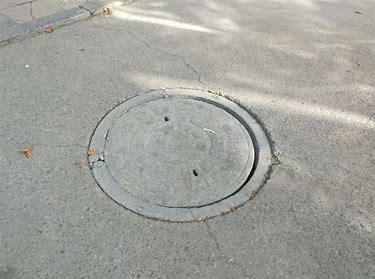wellcover: (92, 91, 287, 222)
